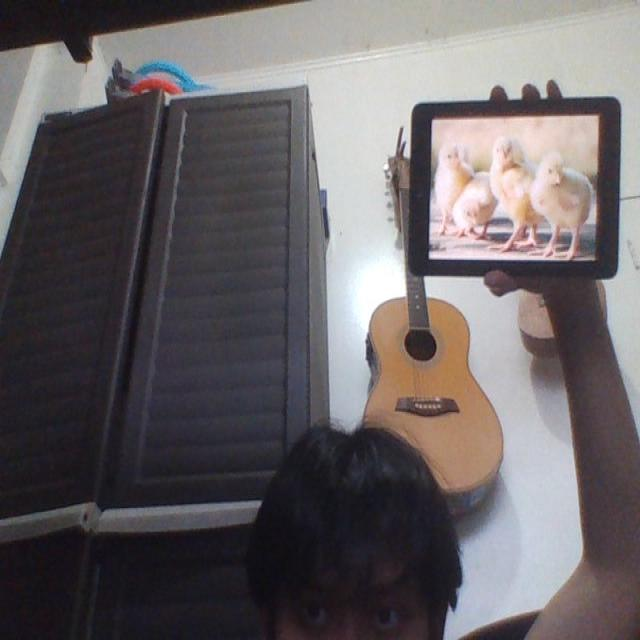Healthy: (530, 152, 591, 259), (490, 134, 539, 250), (434, 134, 469, 209)
Sick: (456, 172, 498, 241)
